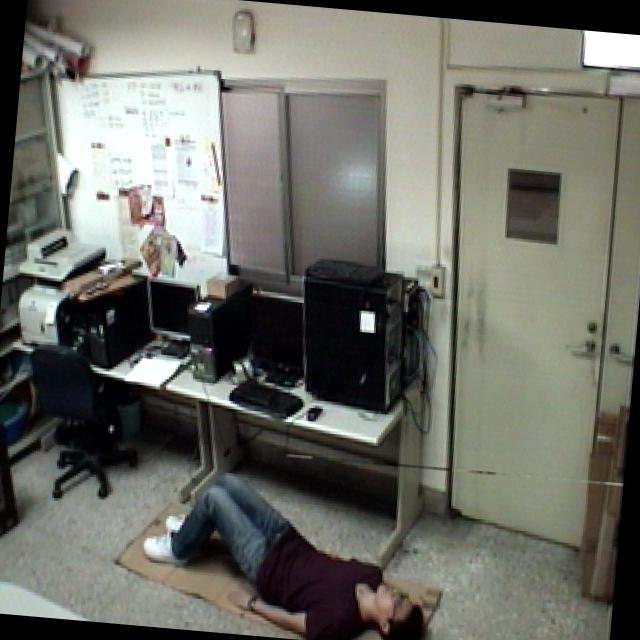lie: (133, 457, 446, 640)
